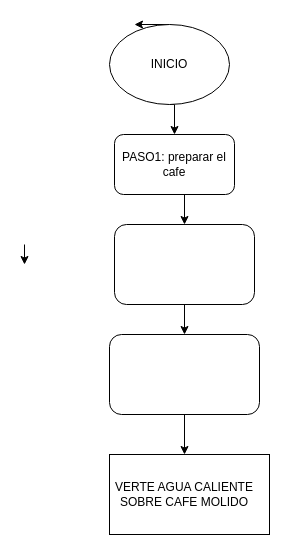
This 287x552 diagram has some shape labels left out. The box of each missing label's shape, as (x1, y1, x2, y2) in pixels:
COLOCA EL CAFE MOLIDO EN UN FILTRO DE CAFE: (108, 334, 260, 414)
MEDIR UNA CCUHARADA DE CAFE MOLIDO POR CADA 6 ONZAS DE AGUA: (114, 224, 254, 304)
